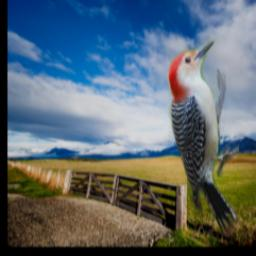Woodpecker: (169, 40, 240, 236)
